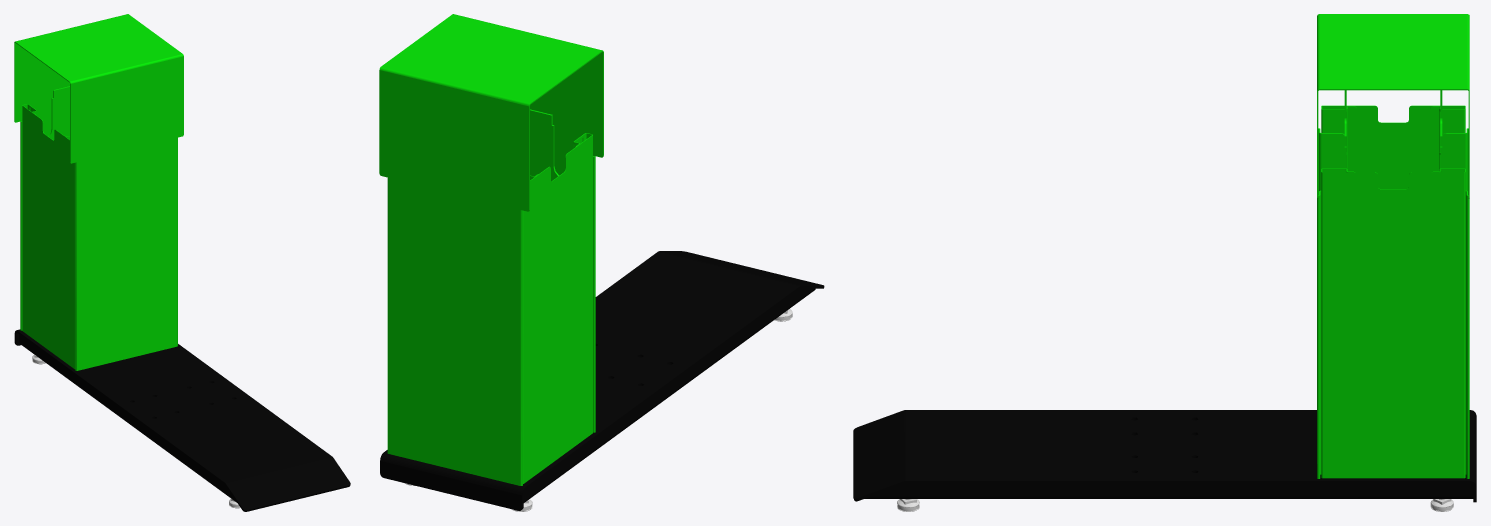
File: KUSO810000_60.glb
3 renders of one model, left to right at view 1: azimuth 30°, elevation 25°; view 2: azimuth 150°, elevation 25°; view 3: azimuth 270°, elevation 25°, orthographic. The views are drawn at different scales.
Parts seen in each view (by area): view 1: 4 (×2); view 2: 4 (×2); view 3: 4 (×2).
Part boxes in pixels (x1,y1,x2,y2): 4 (×2): (14,14,350,511); 4 (×2): (379,14,824,510); 4 (×2): (853,14,1476,502).
Size of the model in its own units: 0.171 by 0.456 by 0.6.
